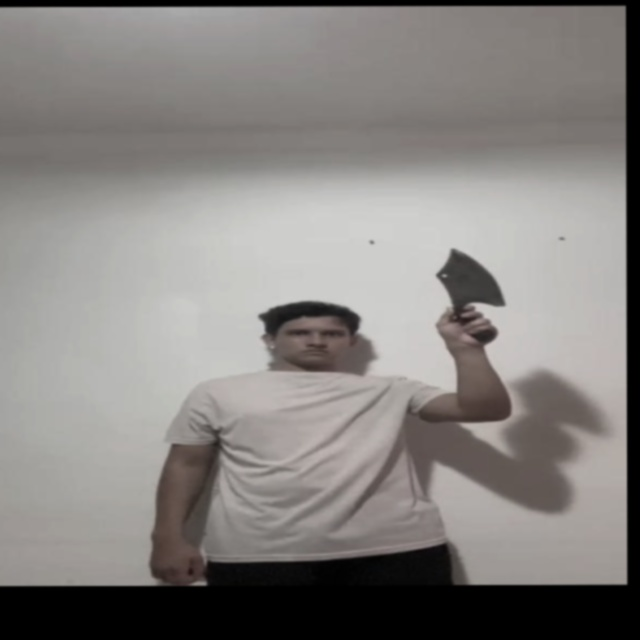Sharp-Object: (432, 247, 506, 308)
